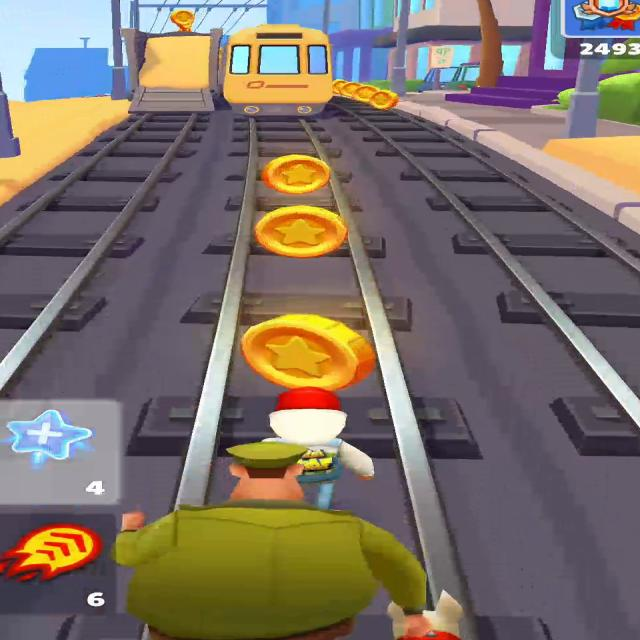climber: (0, 112, 178, 198), (130, 32, 217, 114)
train: (222, 24, 333, 118)
